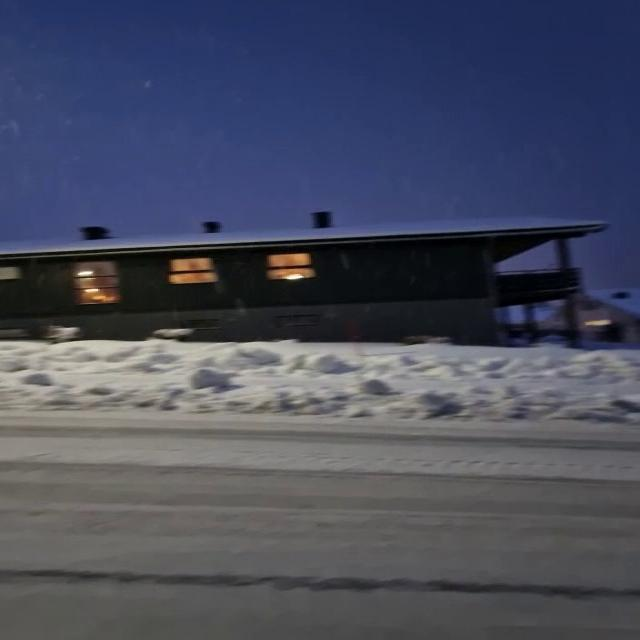path: (3, 414, 638, 640)
